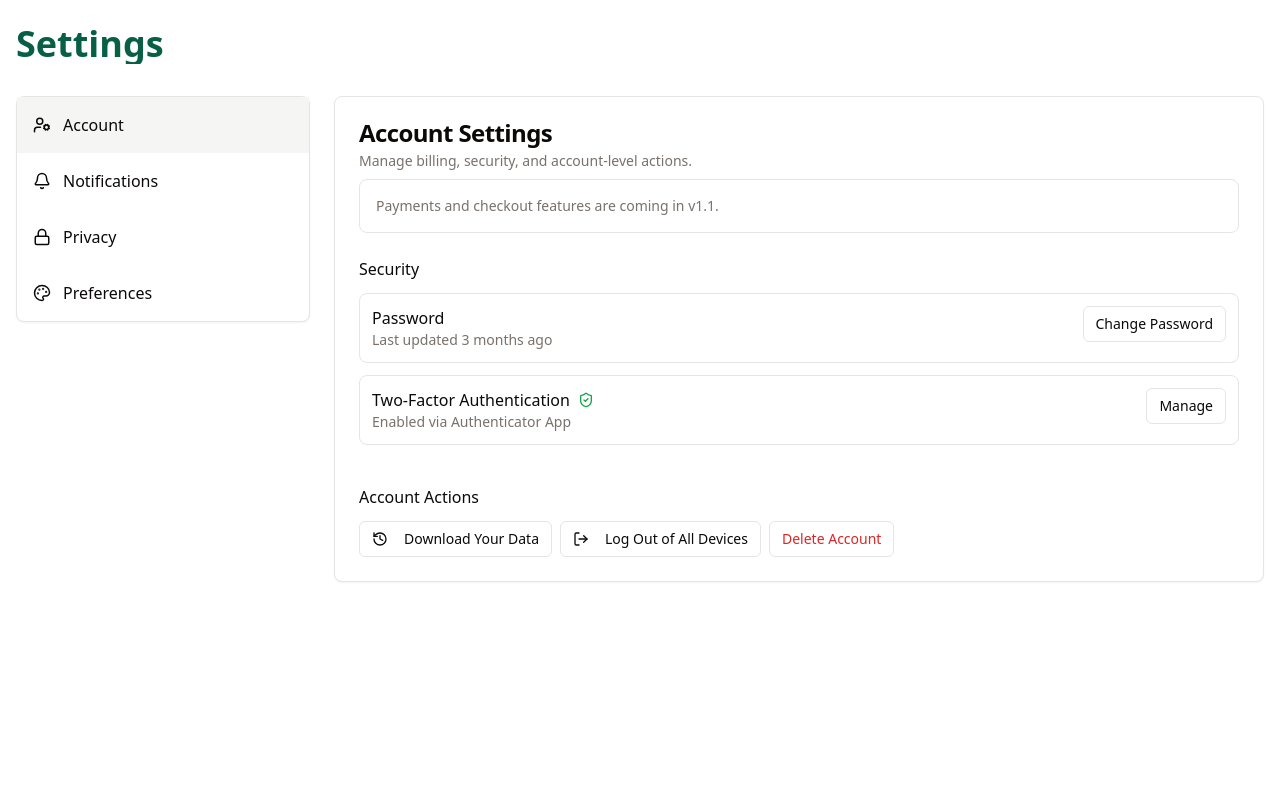
it: Settings page (App Settings hub) › Change Password dialog › blocks the update when the authoritative policy check fails
Click the button with test id "settings-tab-account".
click(93, 125)  # box x1=17 y1=97 x2=309 y2=153
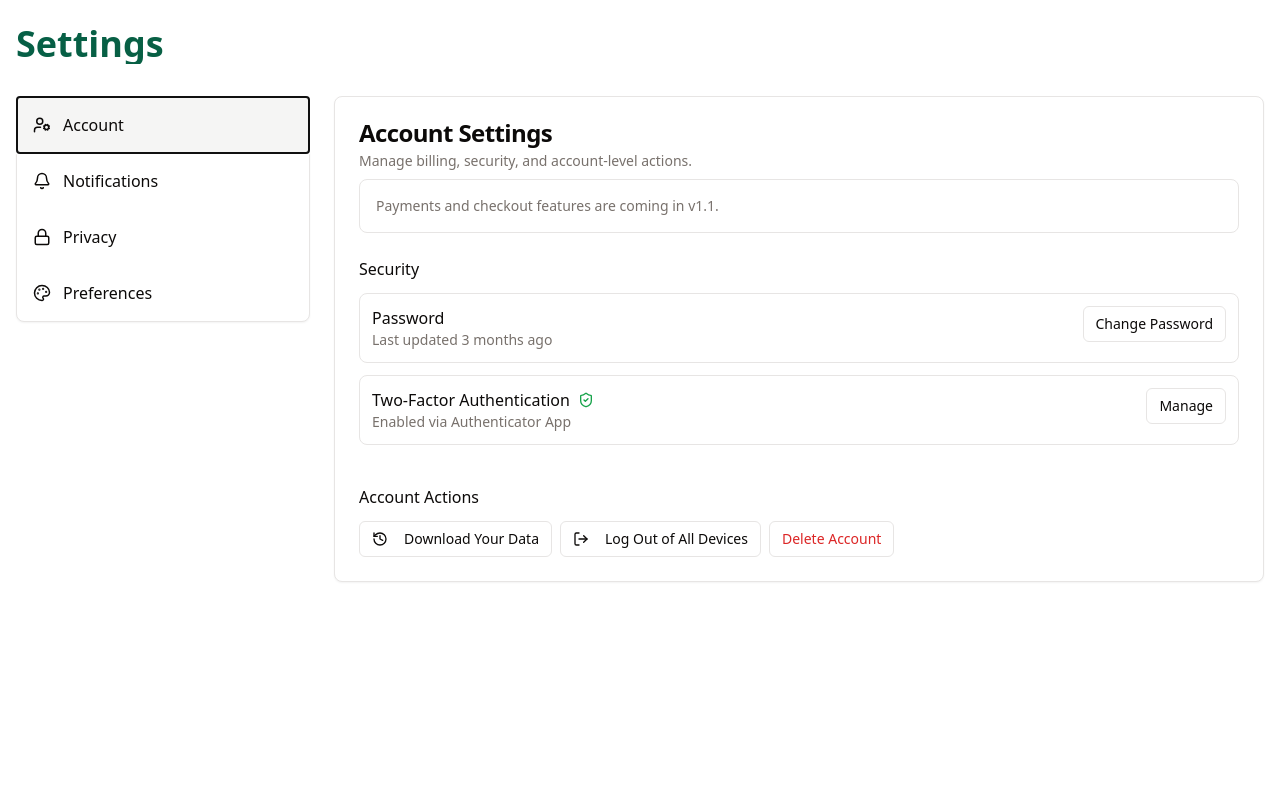
Click the button "Change Password".
click(1154, 324)  # box x1=1082 y1=306 x2=1226 y2=342
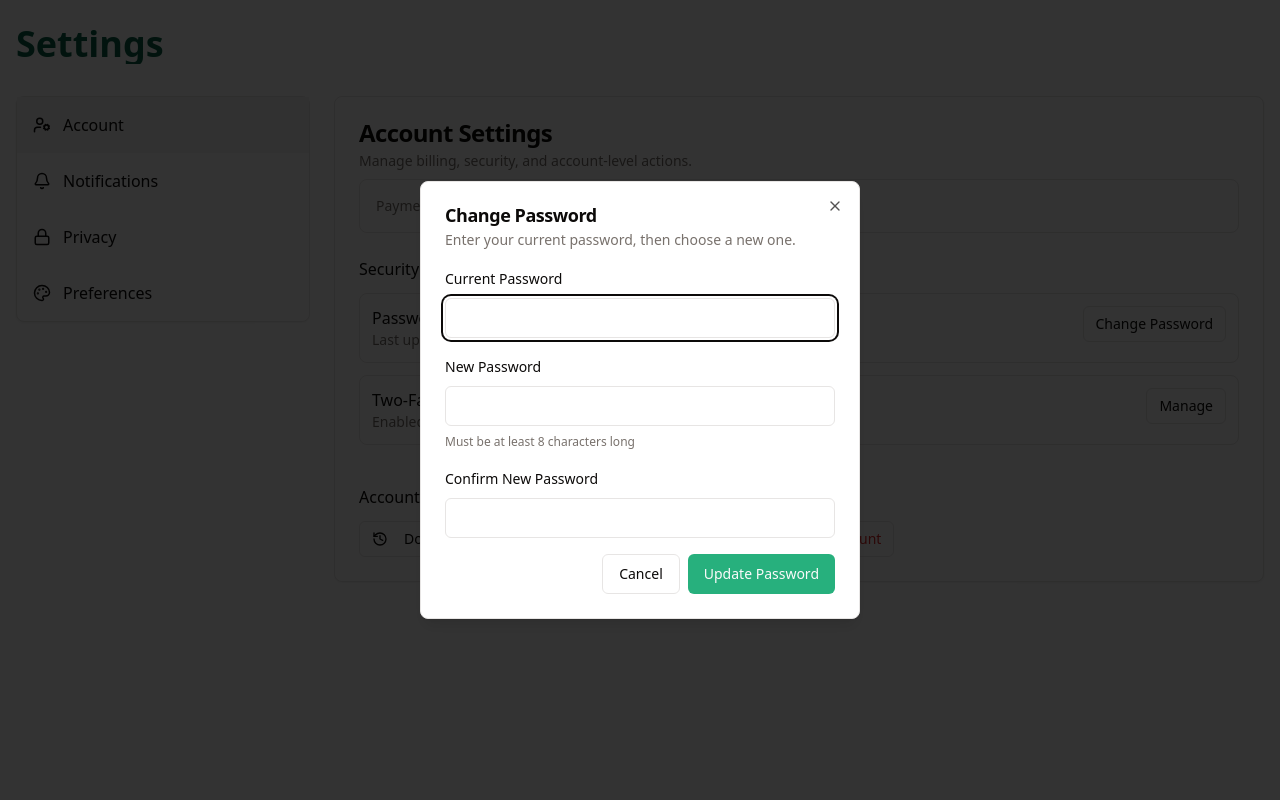
Type "currentpass" into the password field with test id "change-password-current-input".
click(640, 318); type("currentpass")  # box x1=445 y1=298 x2=835 y2=338
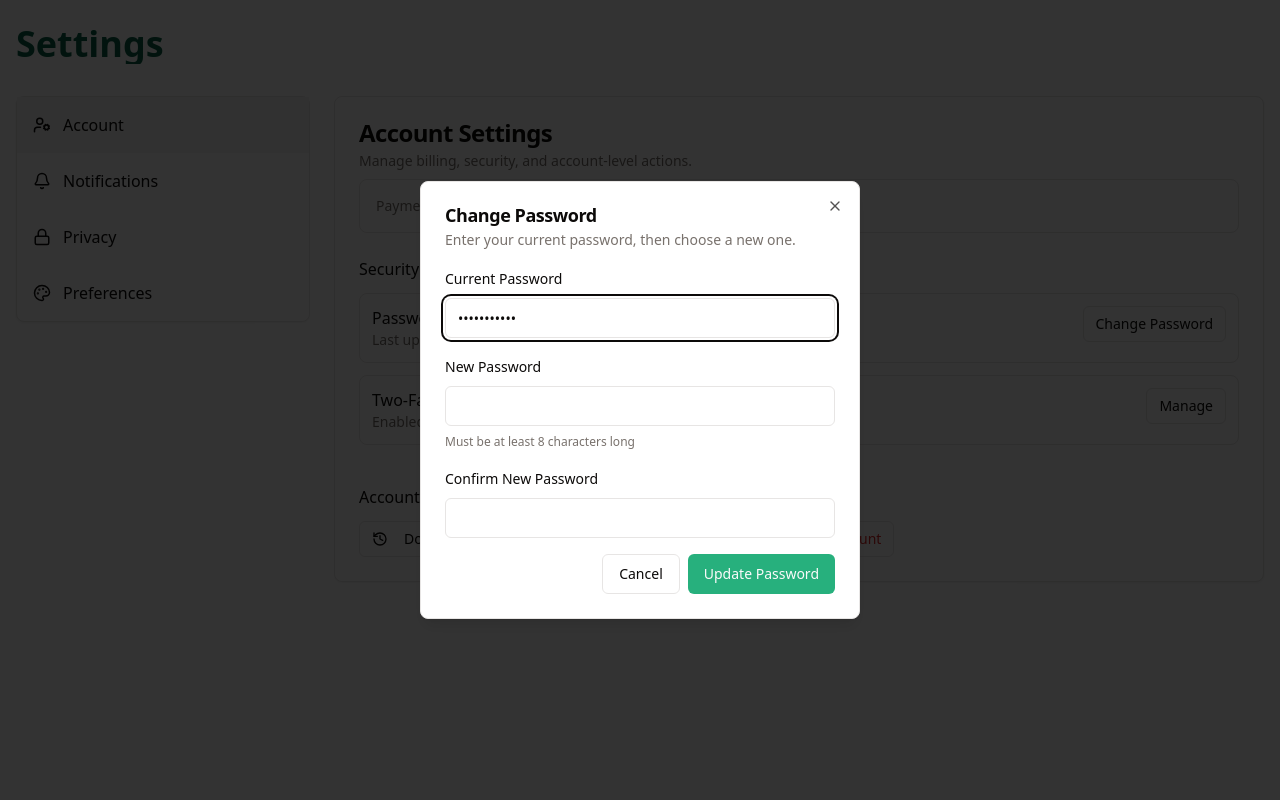
Type "NewStrong1!" into the password field with test id "change-password-new-input".
click(640, 406); type("NewStrong1!")  # box x1=445 y1=386 x2=835 y2=426
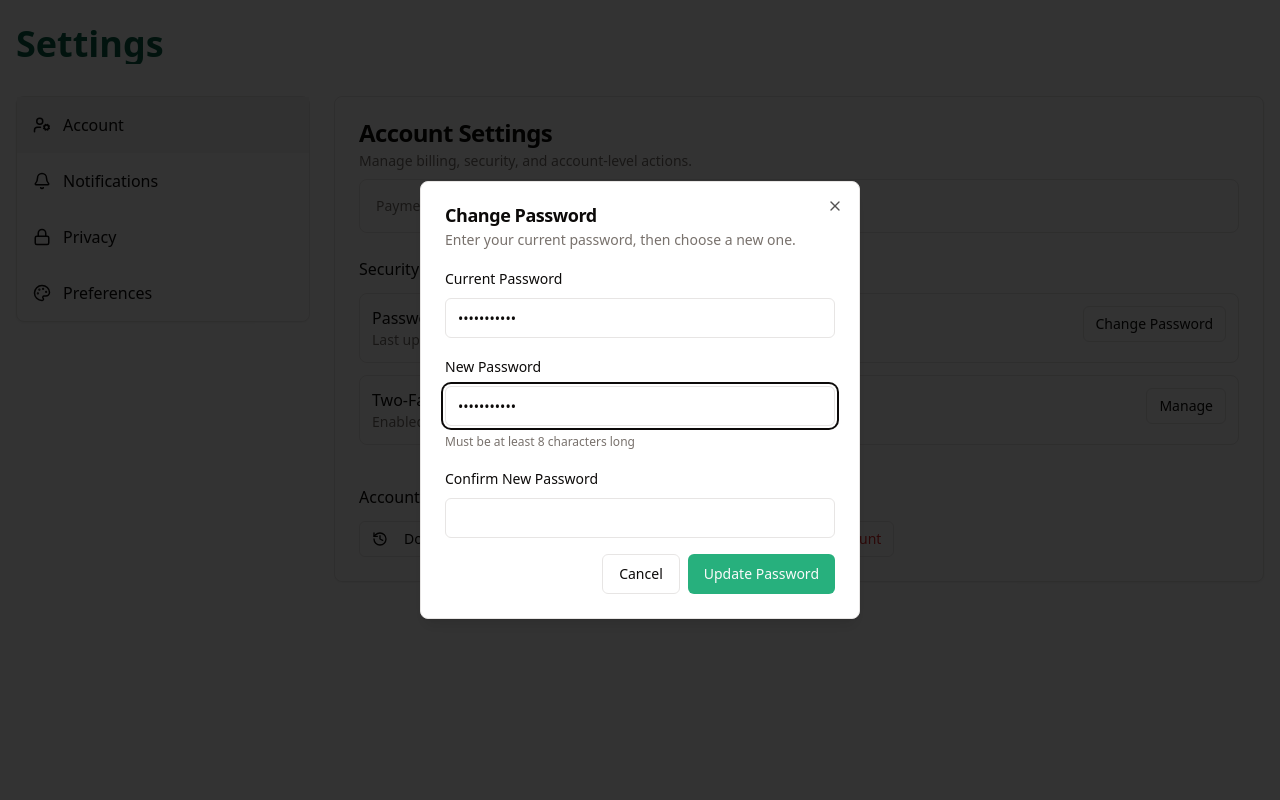
Type "NewStrong1!" into the password field with test id "change-password-confirm-input".
click(640, 518); type("NewStrong1!")  # box x1=445 y1=498 x2=835 y2=538
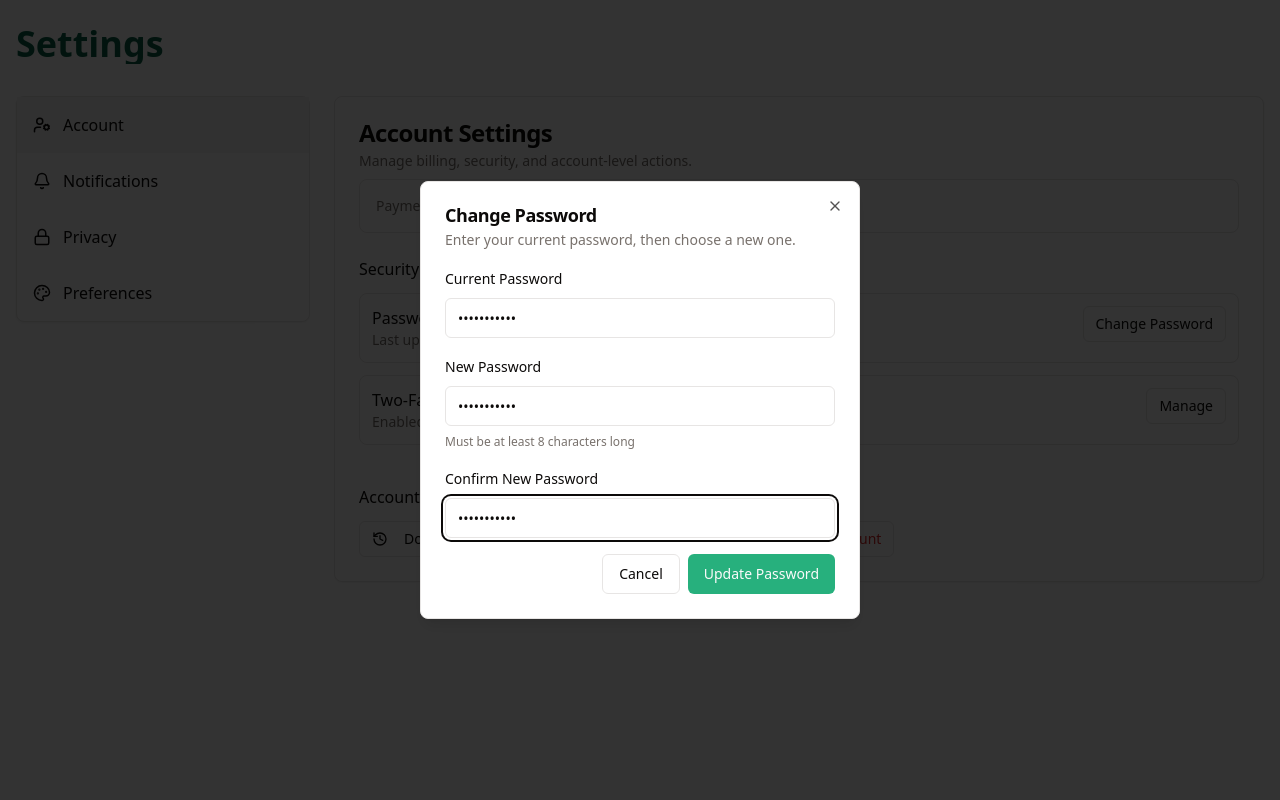
Click the button with test id "change-password-submit".
click(761, 574)  # box x1=688 y1=554 x2=835 y2=594
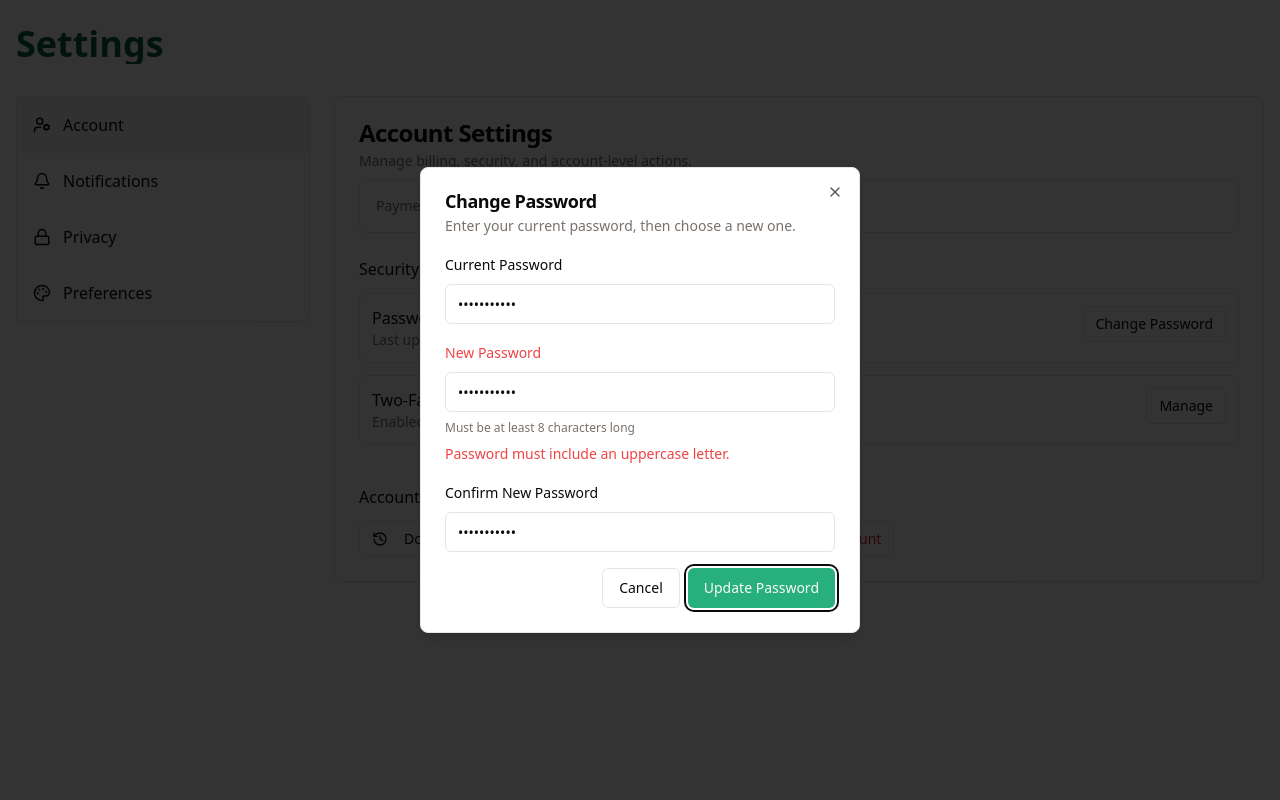
Now the text "Password must include an uppercase letter." is shown, box x1=445 y1=444 x2=730 y2=463
